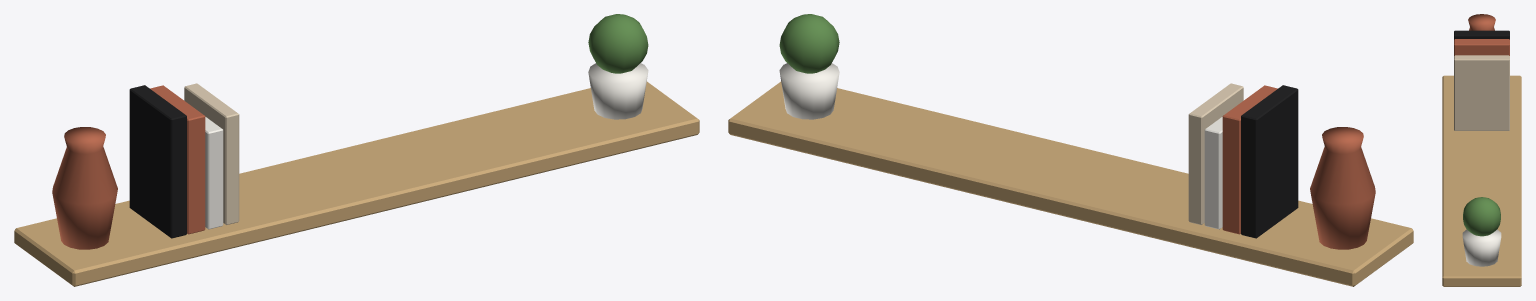
Rendered from i_wshelf_2.glb.
3 renders of one model, left to right at view 1: azimuth 30°, elevation 25°; view 2: azimuth 150°, elevation 25°; view 3: azimuth 270°, elevation 25°, orthographic. The views are drawn at different scales.
Parts seen in each view (by area): view 1: o, o.002, o.001, o.005, o.006, o.003, o.007, o.004; view 2: o, o.002, o.001, o.005, o.006, o.003, o.007, o.004; view 3: o, o.005, o.006, o.007, o.003, o.002, o.001.
Part boxes in pixels (x1=…): o: x1=14, y1=81, x2=699, y2=286; o.002: x1=129, y1=85, x2=186, y2=238; o.001: x1=52, y1=127, x2=117, y2=249; o.005: x1=184, y1=83, x2=239, y2=224; o.006: x1=588, y1=14, x2=648, y2=73; o.003: x1=150, y1=85, x2=205, y2=234; o.007: x1=588, y1=63, x2=648, y2=119; o.004: x1=205, y1=117, x2=223, y2=229; o: x1=728, y1=81, x2=1413, y2=286; o.002: x1=1241, y1=85, x2=1298, y2=238; o.001: x1=1310, y1=127, x2=1375, y2=249; o.005: x1=1188, y1=83, x2=1243, y2=224; o.006: x1=779, y1=14, x2=839, y2=73; o.003: x1=1222, y1=85, x2=1277, y2=234; o.007: x1=779, y1=63, x2=839, y2=119; o.004: x1=1204, y1=117, x2=1222, y2=229; o: x1=1442, y1=75, x2=1521, y2=286; o.005: x1=1454, y1=55, x2=1509, y2=130; o.006: x1=1463, y1=197, x2=1500, y2=236; o.007: x1=1462, y1=229, x2=1501, y2=266; o.003: x1=1454, y1=39, x2=1509, y2=55; o.002: x1=1454, y1=30, x2=1509, y2=39; o.001: x1=1468, y1=14, x2=1495, y2=30.
Size of the model in its own units: 1.2 by 0.2492 by 0.2.
